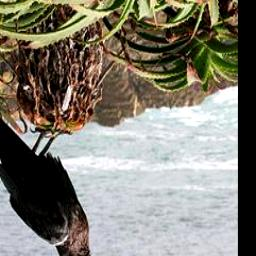Crow: (0, 107, 105, 256)
